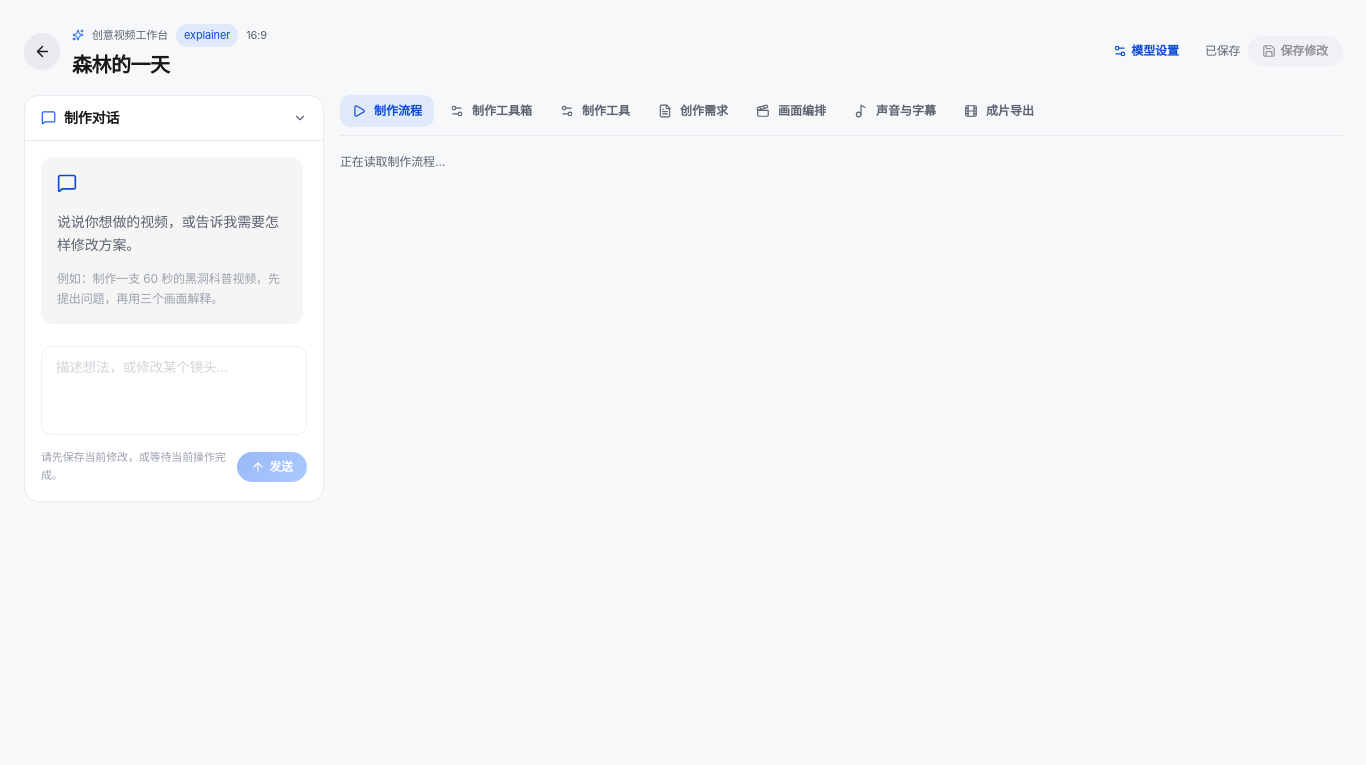
Test: CreativeWorkbenchPage › displays the server language code and exposes the optional audio workflow node
The image size is (1366, 765).
Click the tab "创作需求". click: {"x": 693, "y": 111}
box: [646, 95, 740, 127]
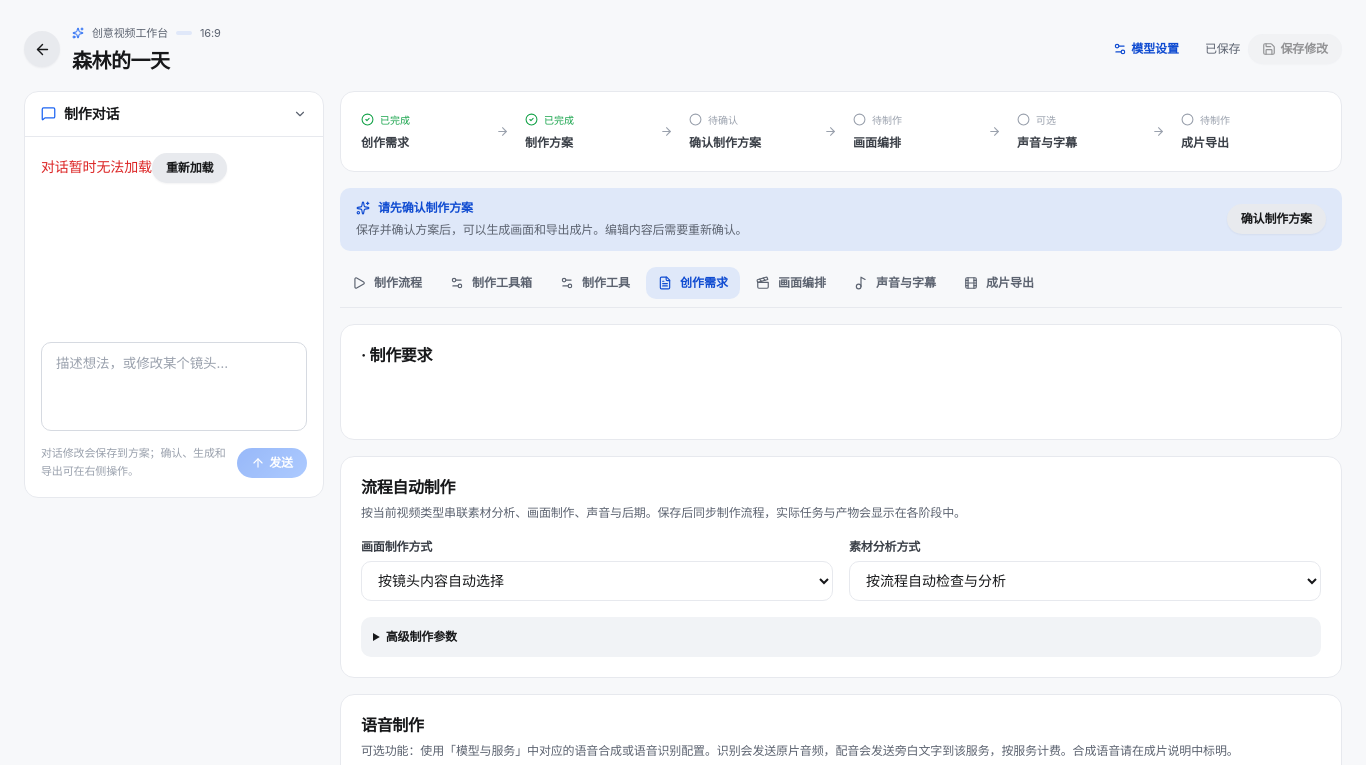
Click the button "可选 声音与字幕". click: {"x": 1076, "y": 131}
box: [1009, 104, 1144, 159]
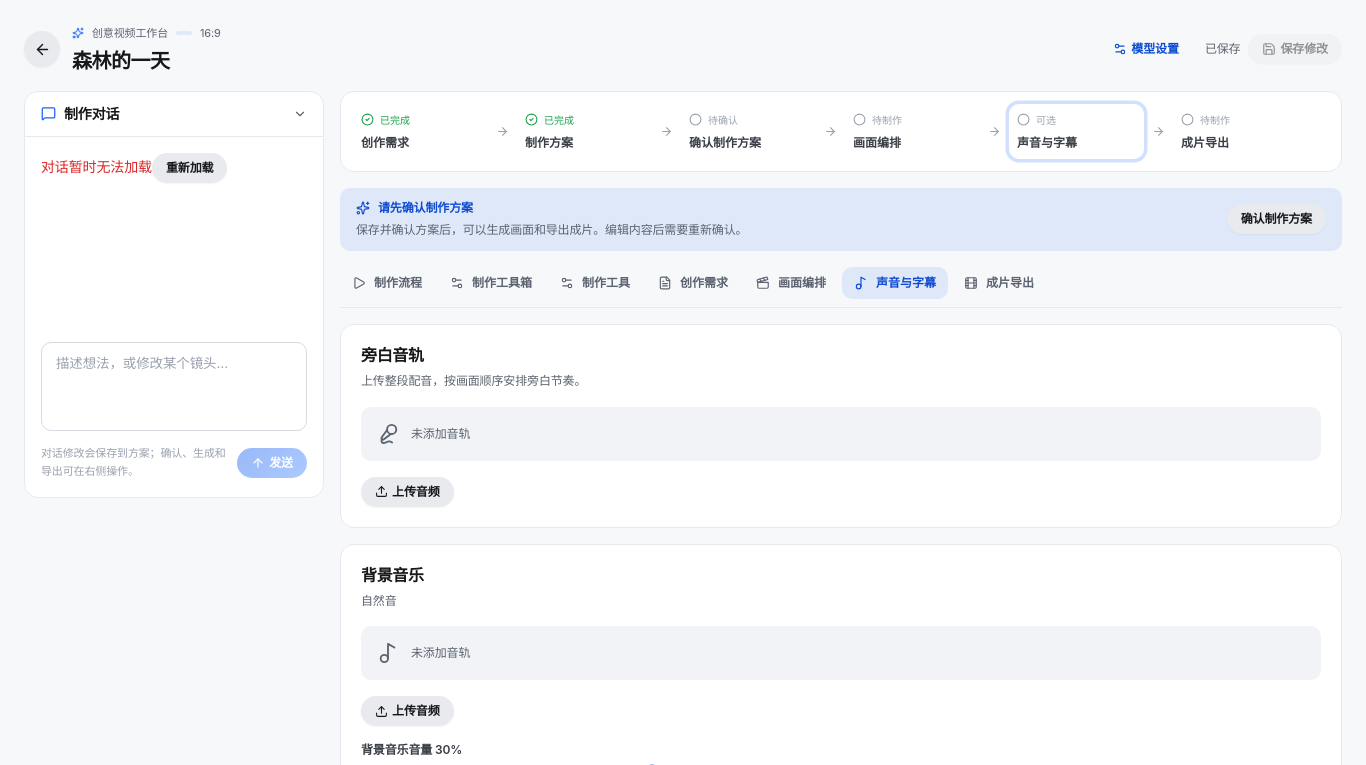
Expected: the heading "旁白音轨" is shown, [361, 345, 424, 365]
